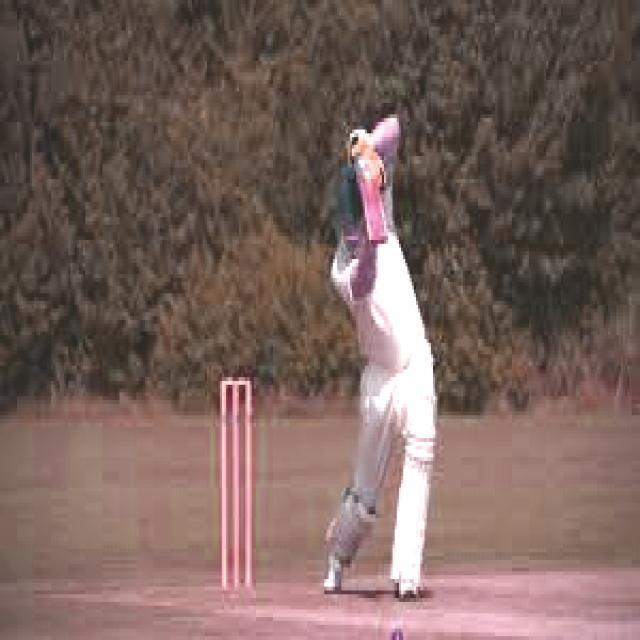bat: (351, 158, 393, 238)
toe: (354, 225, 396, 244)
